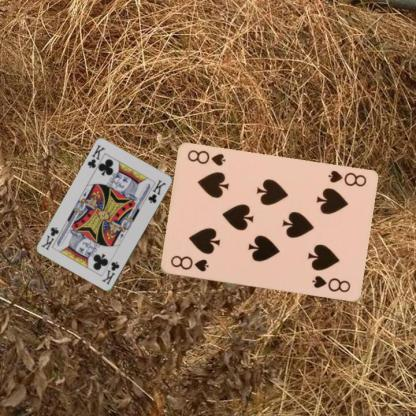8s: (168, 253, 210, 273), (326, 168, 368, 188)
Kc: (99, 259, 121, 286), (85, 143, 106, 170)
